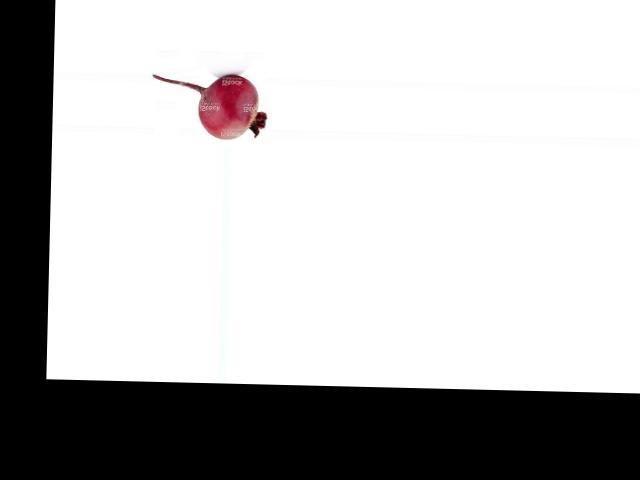beet: (152, 72, 268, 139)
